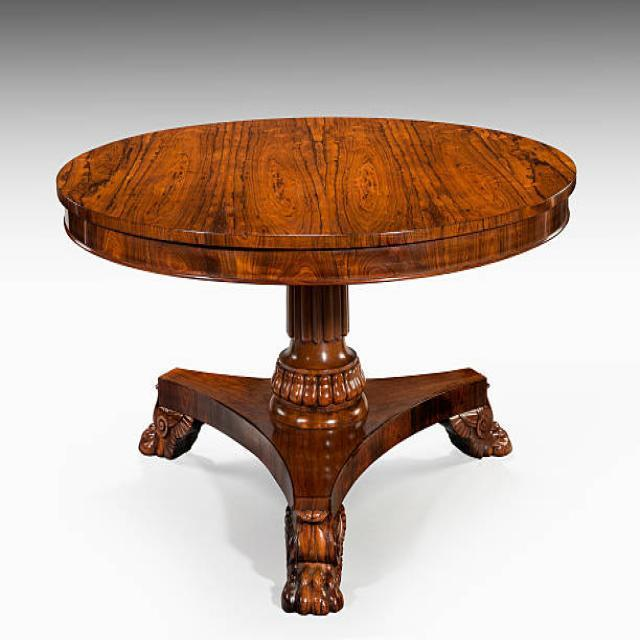table: (55, 114, 578, 616)
